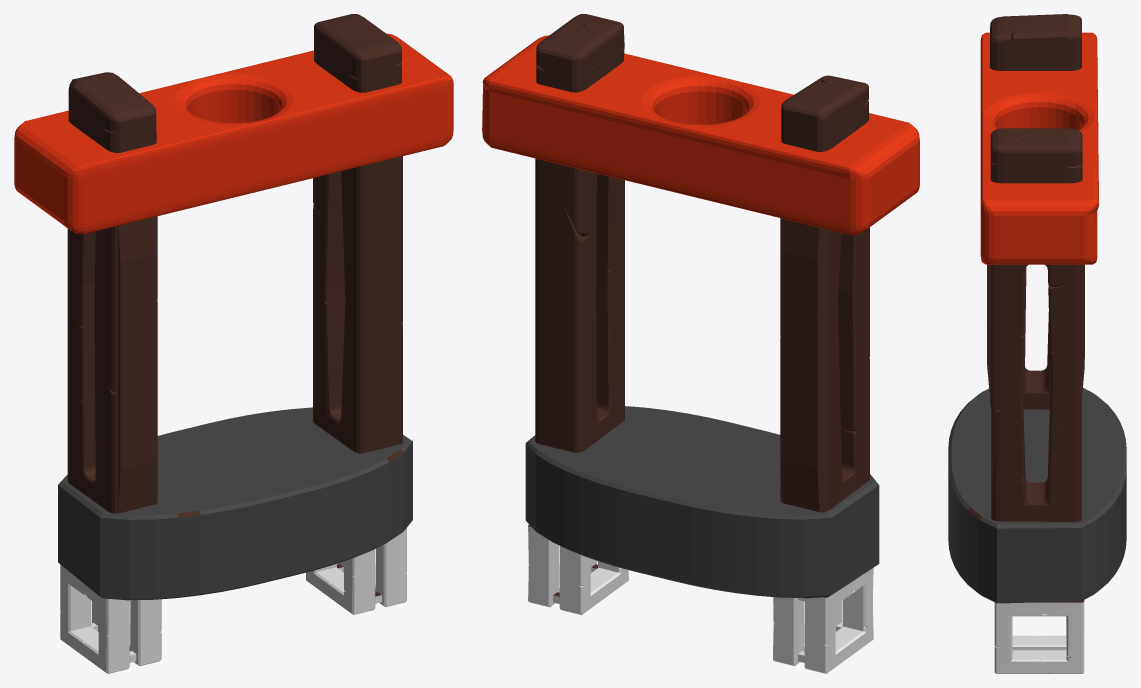
File: prensaSoporte.fbx
The picture shows the model from 3 angles, left to right: view 1: azimuth 30°, elevation 25°; view 2: azimuth 150°, elevation 25°; view 3: azimuth 270°, elevation 25°; orthographic projection. The views are drawn at different scales.
Visible parts, largest first — view 1: Soporte; view 2: Soporte; view 3: Soporte.
Boxes of the visible parts, x1,y1,x2,y2 form: Soporte: (14, 14, 453, 673); Soporte: (482, 14, 919, 673); Soporte: (948, 14, 1126, 673).
Bounding box in the file's own units: 830 × 1151 × 353.
